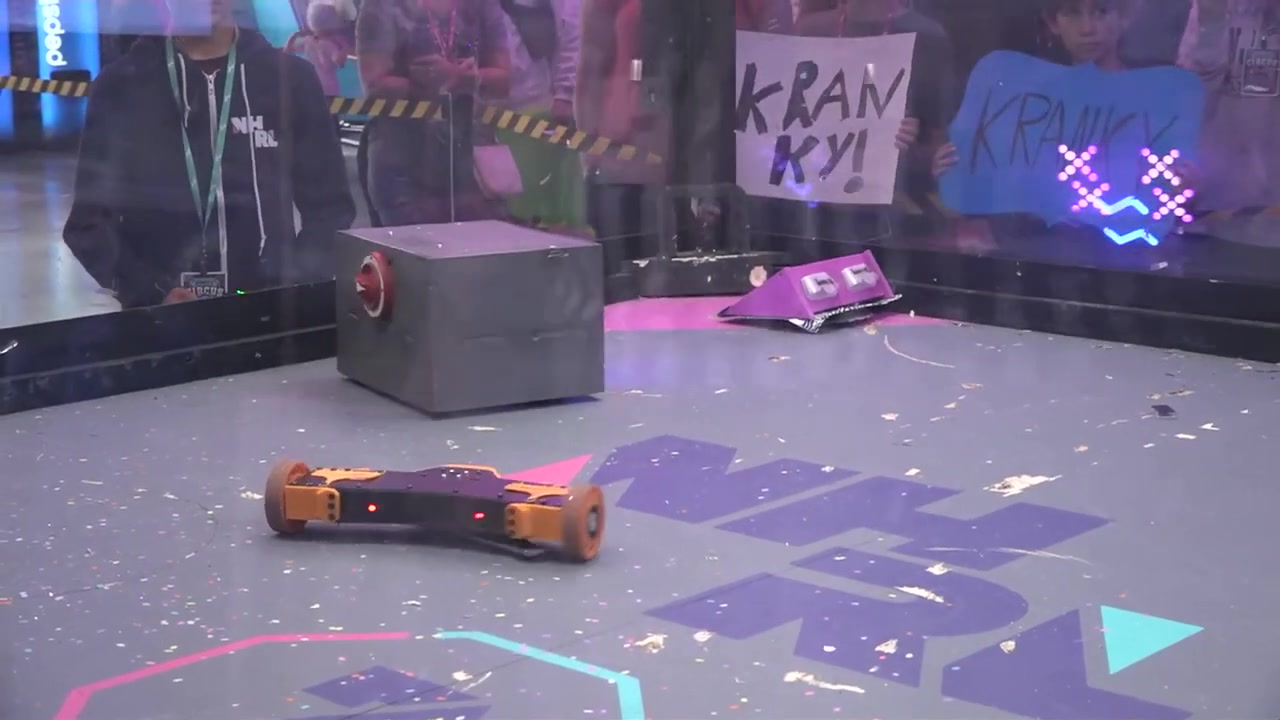combatbot: (262, 462, 611, 564), (718, 251, 901, 336)
housebot: (334, 217, 606, 416), (718, 250, 901, 335)
